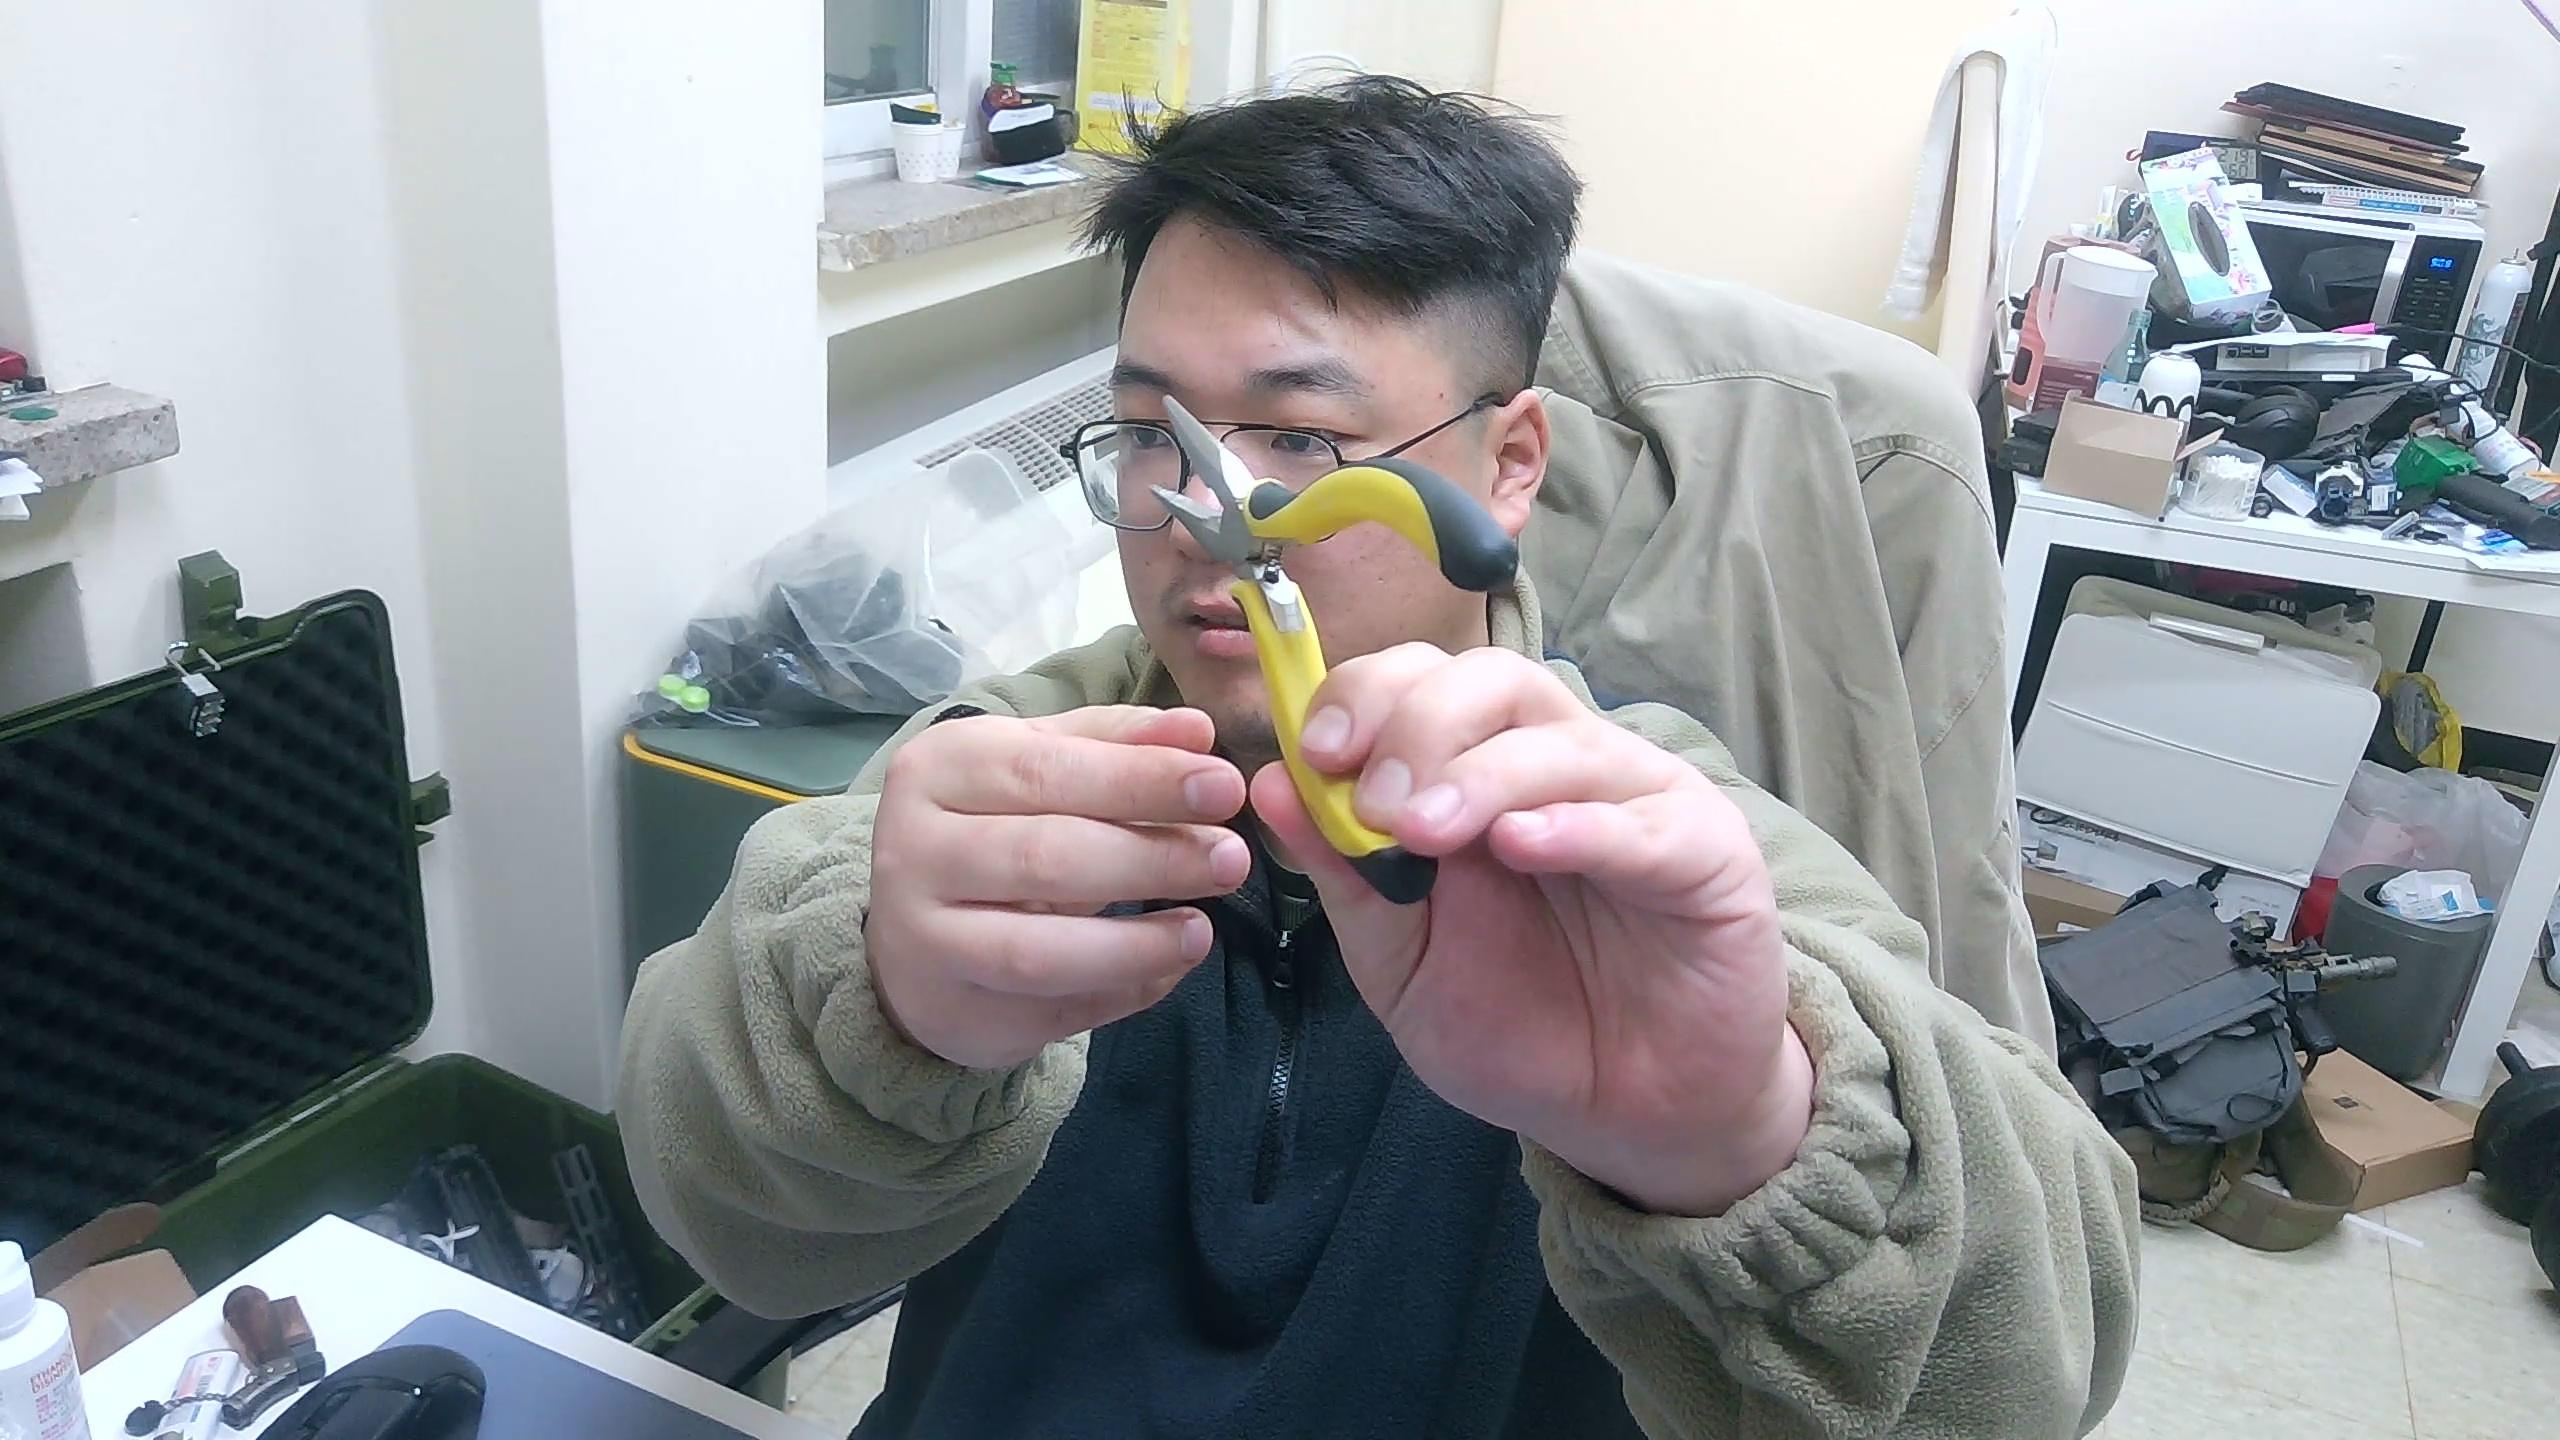earphone: (1138, 396, 1524, 907)
